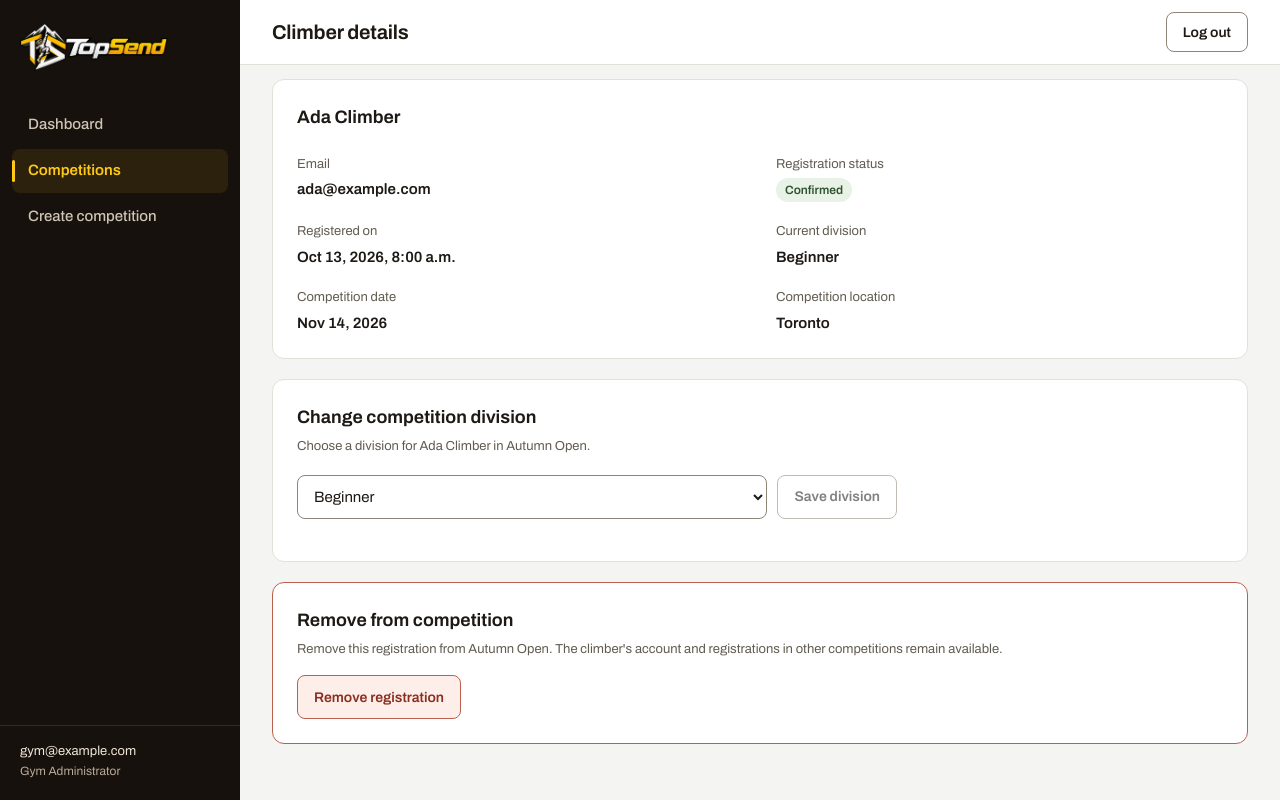
Scenario: US-015 #68 Climber details, permitted editing and removal › requires a separate removal confirmation and supports cancel without a write
The image size is (1280, 800).
(page scrolled)
Click the button "Remove registration": (379, 697) [297,675,461,719]
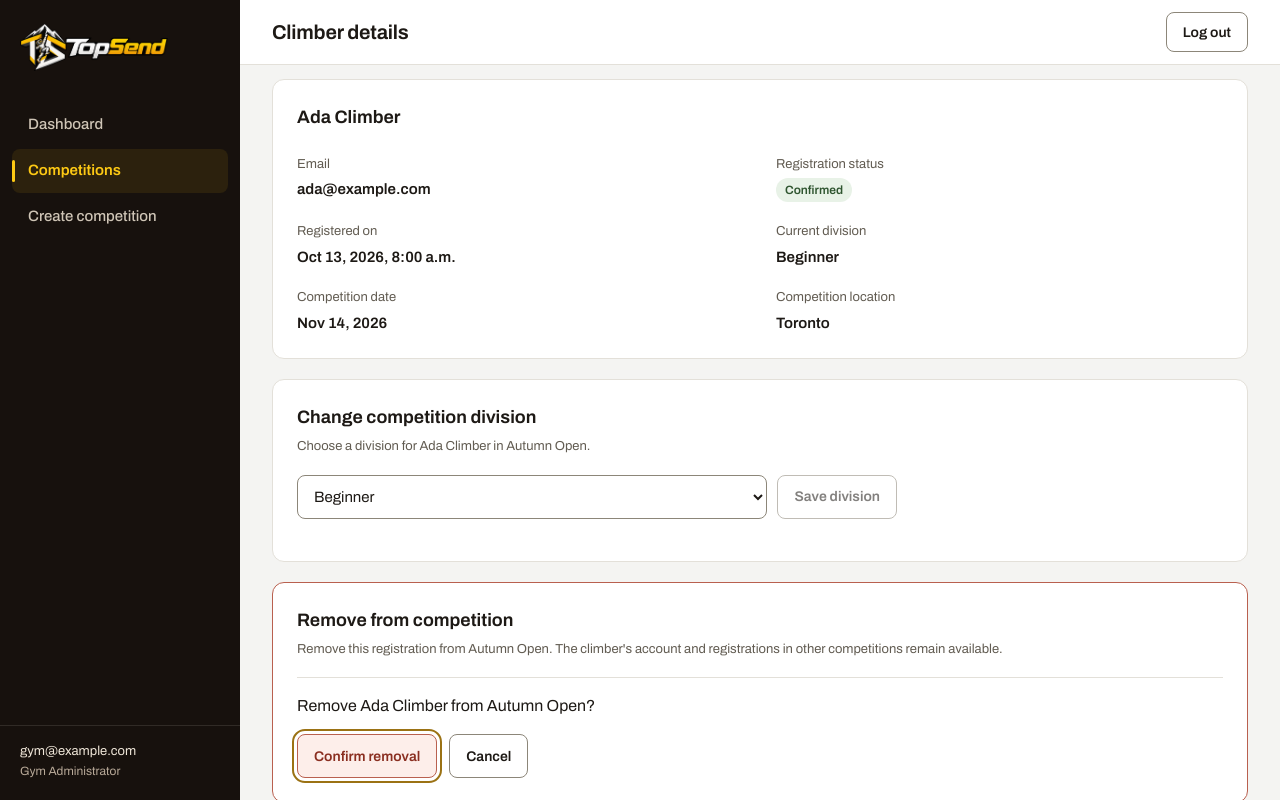
Click the button "Cancel": (489, 756) [449,734,528,778]
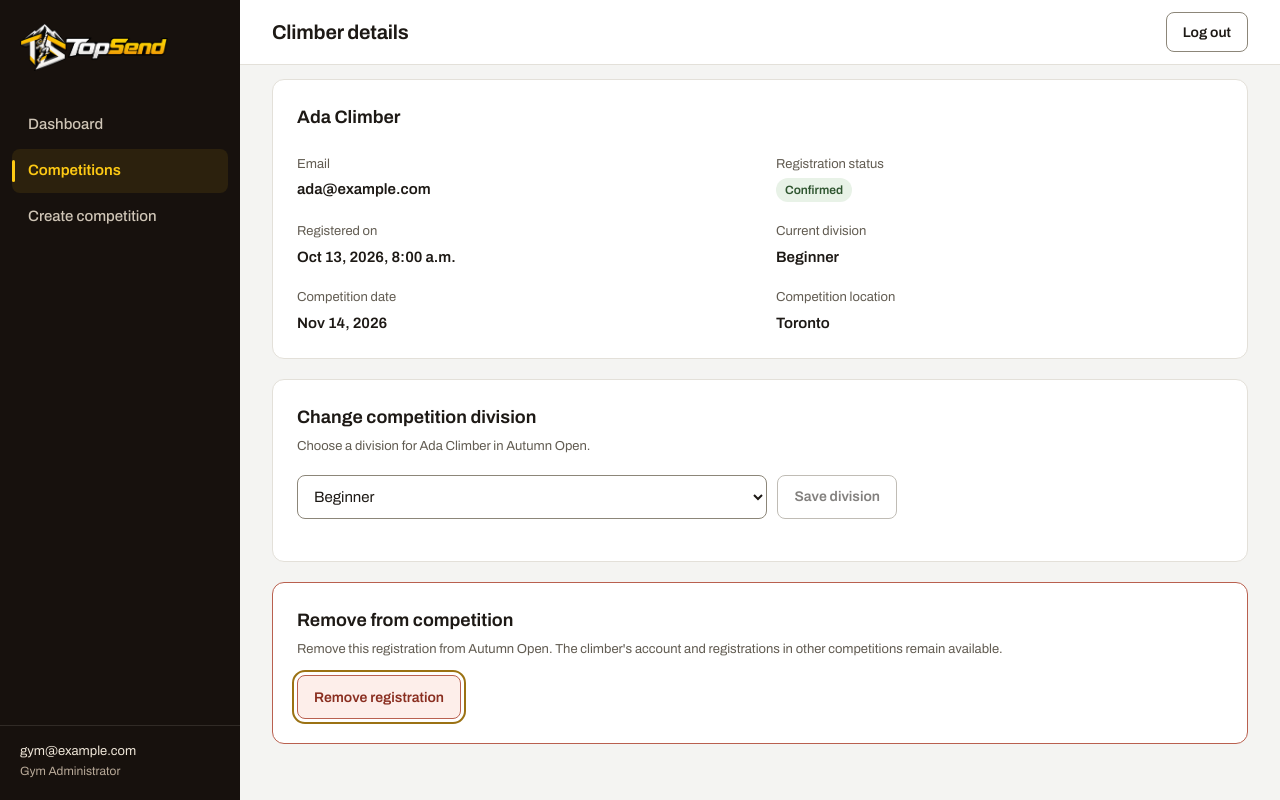
Expected: the button "Confirm removal" is gone
